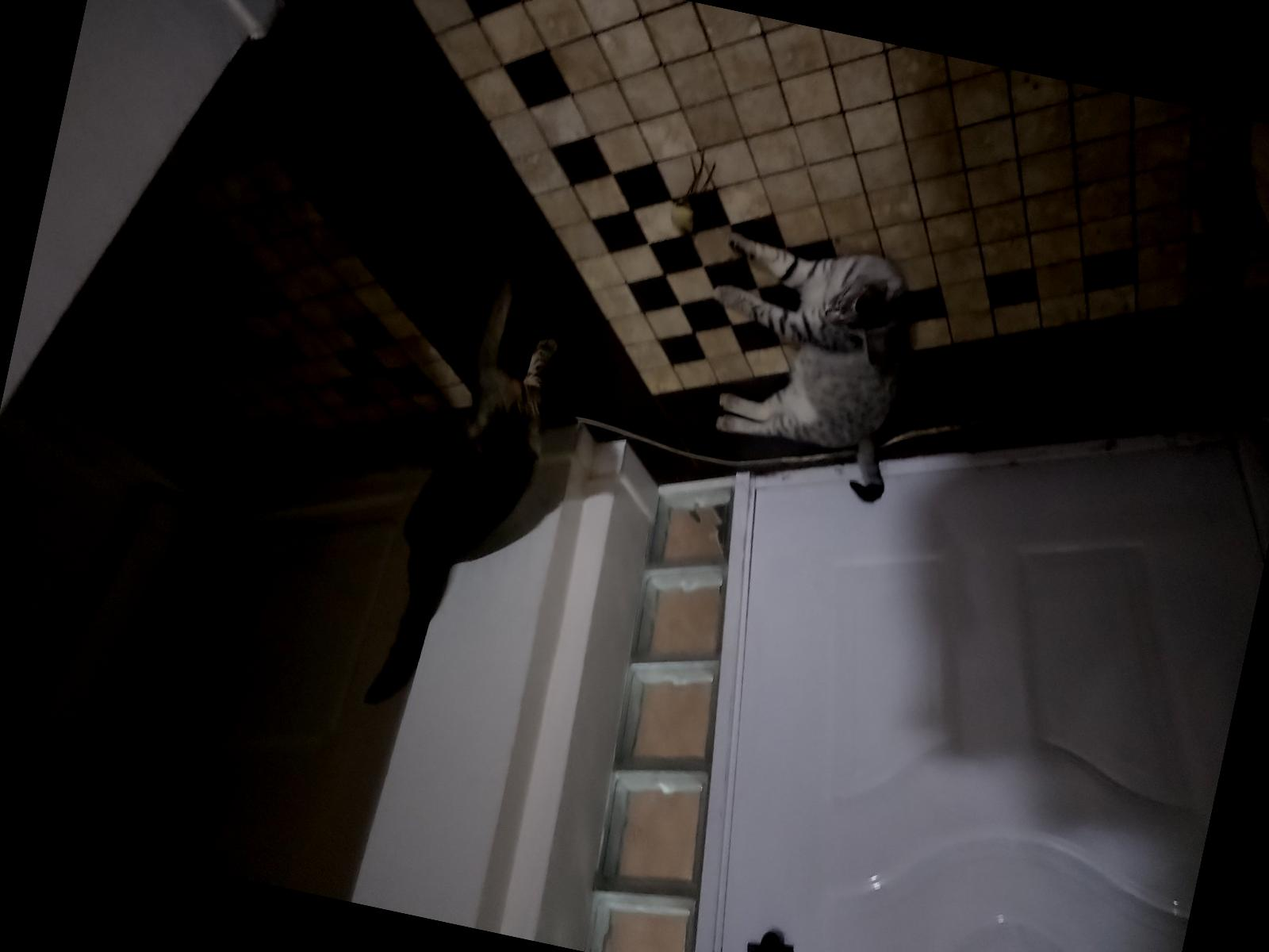macka: (358, 260, 577, 731), (680, 226, 934, 506)
